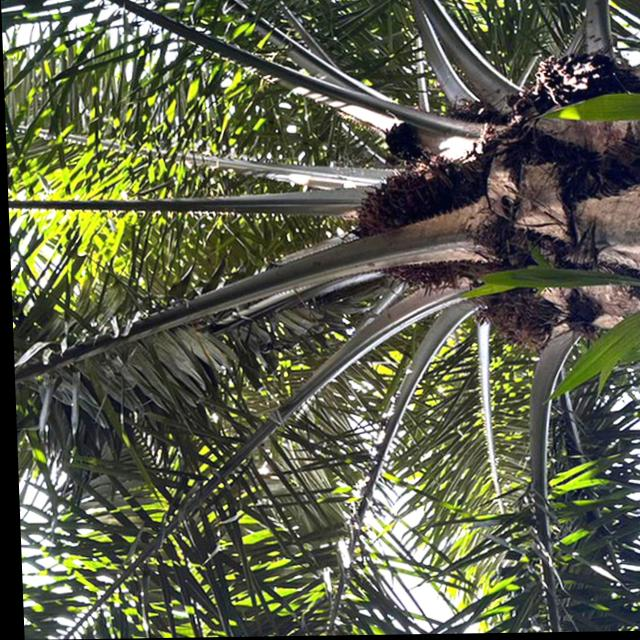ripe: (352, 168, 487, 300)
